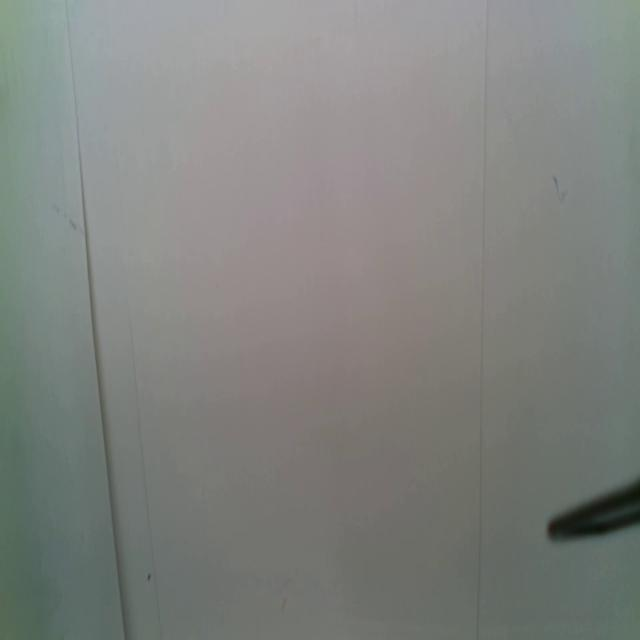crease: (67, 0, 126, 640), (128, 307, 164, 640), (474, 0, 492, 640)
hole: (146, 570, 154, 584)
